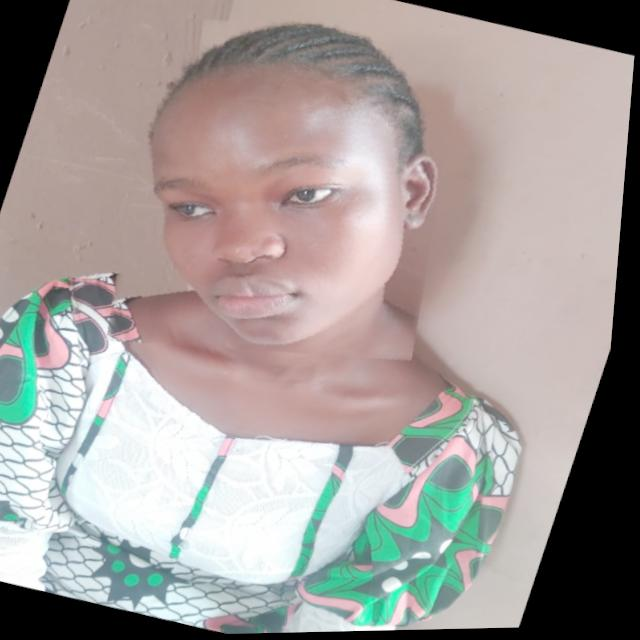sad: (72, 0, 505, 401)
